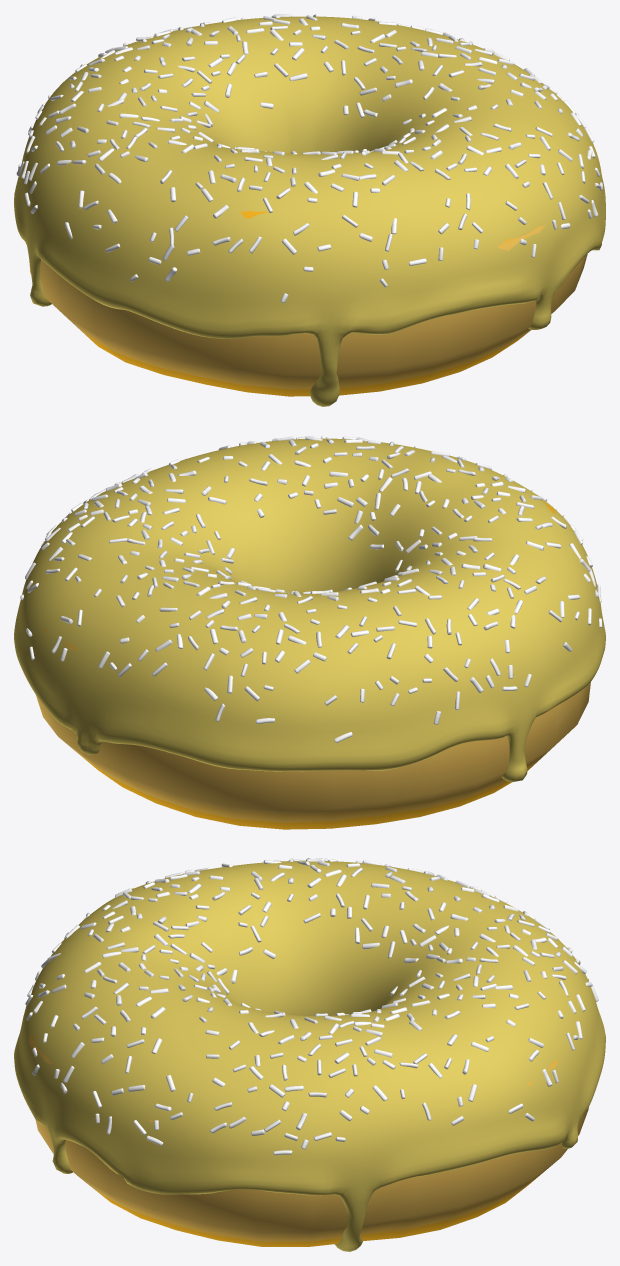
The model's file is donut2.glb.
3 views of the same model, one above another, from view 1: azimuth 30°, elevation 25°; view 2: azimuth 150°, elevation 25°; view 3: azimuth 270°, elevation 25° (orthographic).
Visible parts, largest first — view 1: Icing.002, Donut.002; view 2: Icing.002, Donut.002; view 3: Icing.002, Donut.002.
Boxes of the visible parts, bbox=[...] form: Icing.002: bbox=[14, 16, 605, 406]; Donut.002: bbox=[29, 171, 595, 396]; Icing.002: bbox=[14, 438, 605, 782]; Donut.002: bbox=[36, 500, 590, 829]; Icing.002: bbox=[14, 860, 605, 1251]; Donut.002: bbox=[28, 888, 588, 1246].
Size of the model in its own units: 0.1235 by 0.0506 by 0.1224.
3 materials, 1 textured.
